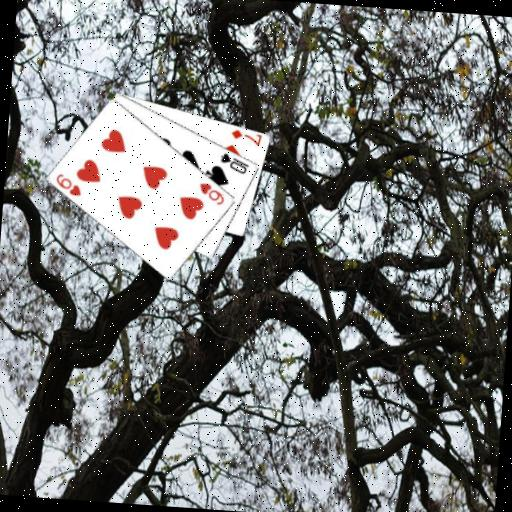10S: (217, 150, 252, 176)
6H: (196, 179, 228, 207), (52, 170, 84, 198)
7D: (228, 126, 264, 147)
